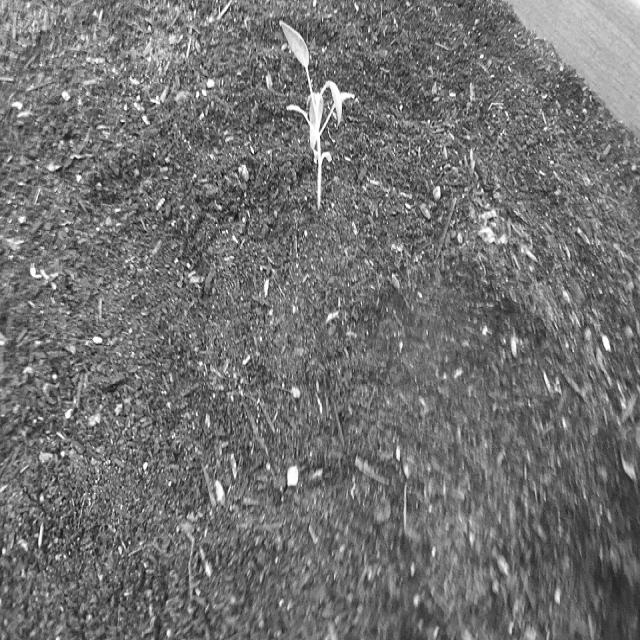Healthy: (264, 12, 360, 226)
